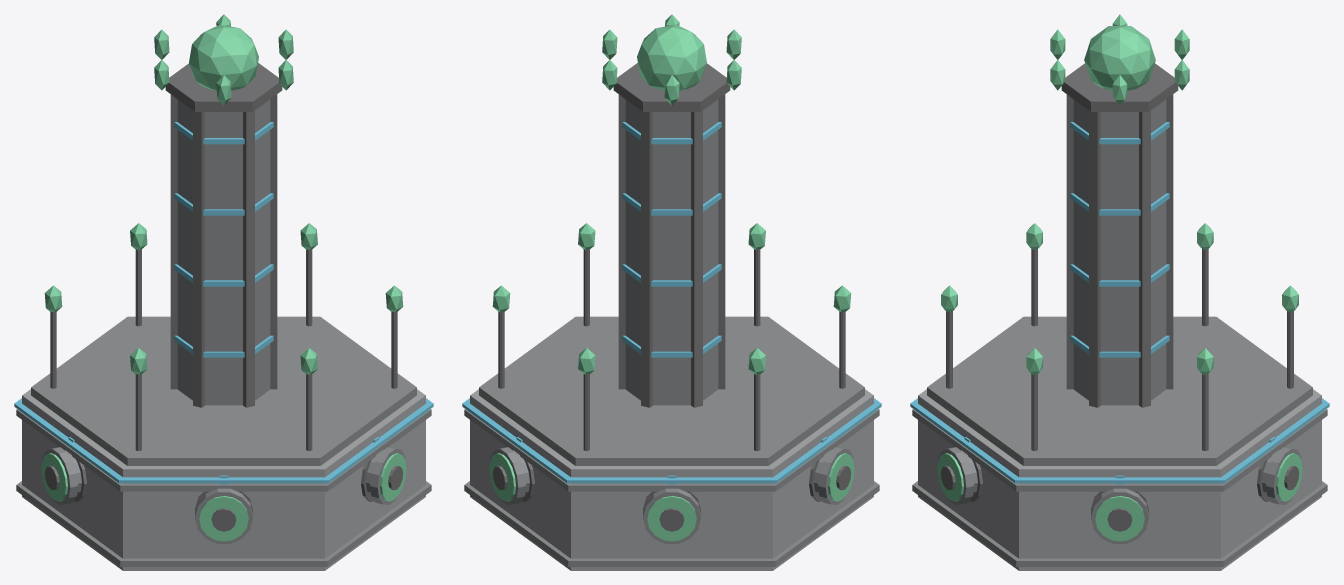
Rendered from guild_beam_s2_50.glb.
3 views of the same model, side by side, from view 1: azimuth 30°, elevation 25°; view 2: azimuth 150°, elevation 25°; view 3: azimuth 270°, elevation 25° (orthographic).
Parts seen in each view (by area): view 1: GB_BaseCap, GB_Base, GB_Tower, GB_Base_BandLow, GB_CoreCrystal, GB_TowerStrut_3, GB_TowerStrut_4, GB_Base_BandHigh, GB_Base_RuneBand, GB_TowerCap, GB_TowerStrut_2, GB_TowerStrut_5 (+16 smaller); view 2: GB_BaseCap, GB_Base, GB_Tower, GB_Base_BandLow, GB_CoreCrystal, GB_TowerStrut_1, GB_TowerStrut_2, GB_Base_BandHigh, GB_Base_RuneBand, GB_TowerCap, GB_TowerStrut_0, GB_TowerStrut_3 (+16 smaller); view 3: GB_BaseCap, GB_Base, GB_Tower, GB_Base_BandLow, GB_CoreCrystal, GB_TowerStrut_0, GB_TowerStrut_5, GB_Base_BandHigh, GB_Base_RuneBand, GB_TowerCap, GB_TowerStrut_1, GB_TowerStrut_4 (+16 smaller).
Part boxes in pixels (x1,y1,x2,y2): GB_BaseCap: (31, 316, 416, 465); GB_Base: (22, 389, 425, 570); GB_Tower: (177, 99, 270, 405); GB_Base_BandLow: (16, 481, 431, 566); GB_CoreCrystal: (189, 24, 258, 90); GB_TowerStrut_3: (193, 111, 204, 407); GB_TowerStrut_4: (243, 111, 254, 407); GB_Base_BandHigh: (16, 409, 431, 491); GB_Base_RuneBand: (14, 398, 433, 483); GB_TowerCap: (165, 63, 282, 111); GB_TowerStrut_2: (170, 94, 177, 389); GB_TowerStrut_5: (270, 94, 277, 389); GB_BaseCap: (479, 316, 864, 465); GB_Base: (470, 389, 873, 570); GB_Tower: (625, 99, 718, 405); GB_Base_BandLow: (464, 481, 879, 566); GB_CoreCrystal: (637, 24, 706, 90); GB_TowerStrut_1: (641, 111, 652, 407); GB_TowerStrut_2: (691, 111, 702, 407); GB_Base_BandHigh: (464, 409, 879, 491); GB_Base_RuneBand: (462, 398, 881, 483); GB_TowerCap: (613, 63, 730, 111); GB_TowerStrut_0: (618, 94, 625, 389); GB_TowerStrut_3: (718, 94, 725, 389); GB_BaseCap: (927, 316, 1312, 465); GB_Base: (918, 389, 1321, 570); GB_Tower: (1073, 99, 1166, 405); GB_Base_BandLow: (912, 481, 1327, 566); GB_CoreCrystal: (1084, 26, 1155, 90); GB_TowerStrut_0: (1139, 111, 1150, 407); GB_TowerStrut_5: (1089, 111, 1100, 407); GB_Base_BandHigh: (912, 409, 1327, 491); GB_Base_RuneBand: (910, 398, 1329, 483); GB_TowerCap: (1061, 63, 1178, 111); GB_TowerStrut_1: (1166, 94, 1173, 389); GB_TowerStrut_4: (1066, 94, 1073, 389).
Bounding box in the file's own units: 1.78 × 2.31 × 1.87.
